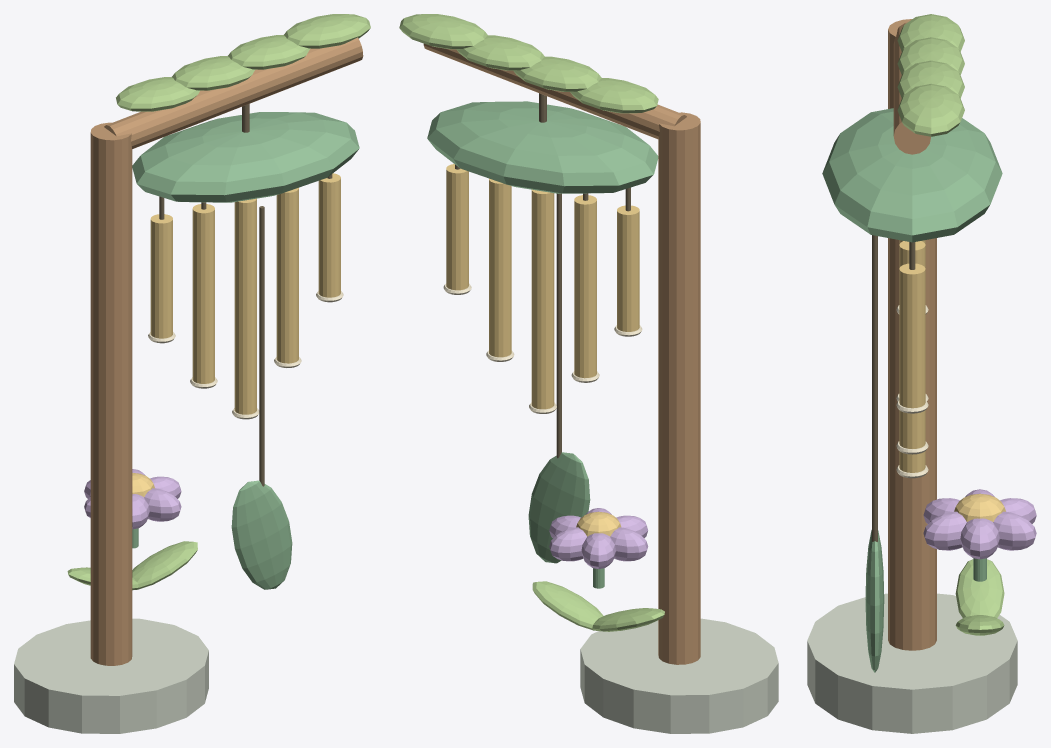
The model's file is WindChime.fbx.
3 renders of one model, left to right at view 1: azimuth 30°, elevation 25°; view 2: azimuth 150°, elevation 25°; view 3: azimuth 270°, elevation 25°, orthographic. The views are drawn at different scales.
Parts seen in each view (by area): view 1: WindChime_Collection honey oak, WindChime_Collection sage, WindChime_Collection warm brass, WindChime_Collection limestone, WindChime_Collection fresh leaf, WindChime_Collection lavender, WindChime_Collection shadow, WindChime_Collection ivory; view 2: WindChime_Collection honey oak, WindChime_Collection sage, WindChime_Collection warm brass, WindChime_Collection limestone, WindChime_Collection fresh leaf, WindChime_Collection lavender, WindChime_Collection shadow, WindChime_Collection ivory; view 3: WindChime_Collection limestone, WindChime_Collection sage, WindChime_Collection honey oak, WindChime_Collection fresh leaf, WindChime_Collection warm brass, WindChime_Collection lavender, WindChime_Collection shadow, WindChime_Collection ivory.
Boxes of the visible parts, x1,y1,x2,y2 form: WindChime_Collection honey oak: (90, 37, 363, 665); WindChime_Collection sage: (132, 112, 359, 589); WindChime_Collection warm brass: (132, 173, 340, 496); WindChime_Collection limestone: (14, 618, 208, 733); WindChime_Collection fresh leaf: (67, 14, 370, 590); WindChime_Collection lavender: (84, 469, 181, 529); WindChime_Collection shadow: (159, 104, 332, 486); WindChime_Collection ivory: (148, 291, 343, 419); WindChime_Collection honey oak: (423, 43, 700, 664); WindChime_Collection sage: (427, 101, 658, 588); WindChime_Collection warm brass: (446, 164, 639, 536); WindChime_Collection limestone: (580, 618, 778, 733); WindChime_Collection fresh leaf: (399, 14, 664, 631); WindChime_Collection lavender: (549, 508, 648, 568); WindChime_Collection shadow: (455, 93, 630, 458); WindChime_Collection ivory: (443, 283, 642, 413); WindChime_Collection limestone: (807, 593, 1017, 733); WindChime_Collection sage: (822, 108, 1002, 672); WindChime_Collection honey oak: (888, 19, 936, 650); WindChime_Collection fresh leaf: (897, 14, 1004, 635); WindChime_Collection warm brass: (899, 240, 1005, 521); WindChime_Collection lavender: (923, 489, 1036, 559); WindChime_Collection shadow: (872, 235, 915, 541); WindChime_Collection ivory: (896, 305, 928, 478).
Bounding box in the file's own units: 126 × 210 × 61.07.
